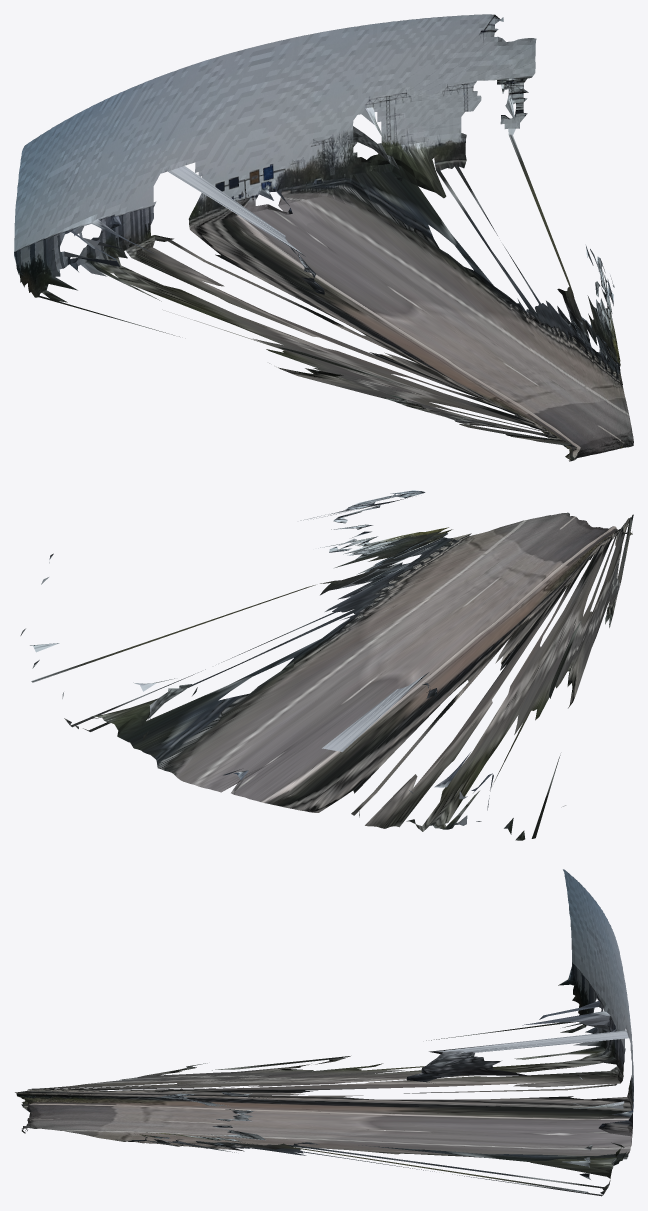
3 renders of one model, top to bottom at view 1: azimuth 30°, elevation 25°; view 2: azimuth 150°, elevation 25°; view 3: azimuth 270°, elevation 25°, orthographic. The views are drawn at different scales.
Parts seen in each view (by area): view 1: defaultobject; view 2: defaultobject; view 3: defaultobject.
Part boxes in pixels (box(x1,y1,x2,y2)): defaultobject: box(14, 14, 633, 461); defaultobject: box(20, 490, 633, 840); defaultobject: box(15, 869, 633, 1196).
Size of the model in its own units: 39.11 by 12.56 by 45.07.
Materials: 1 (1 with a texture image).
